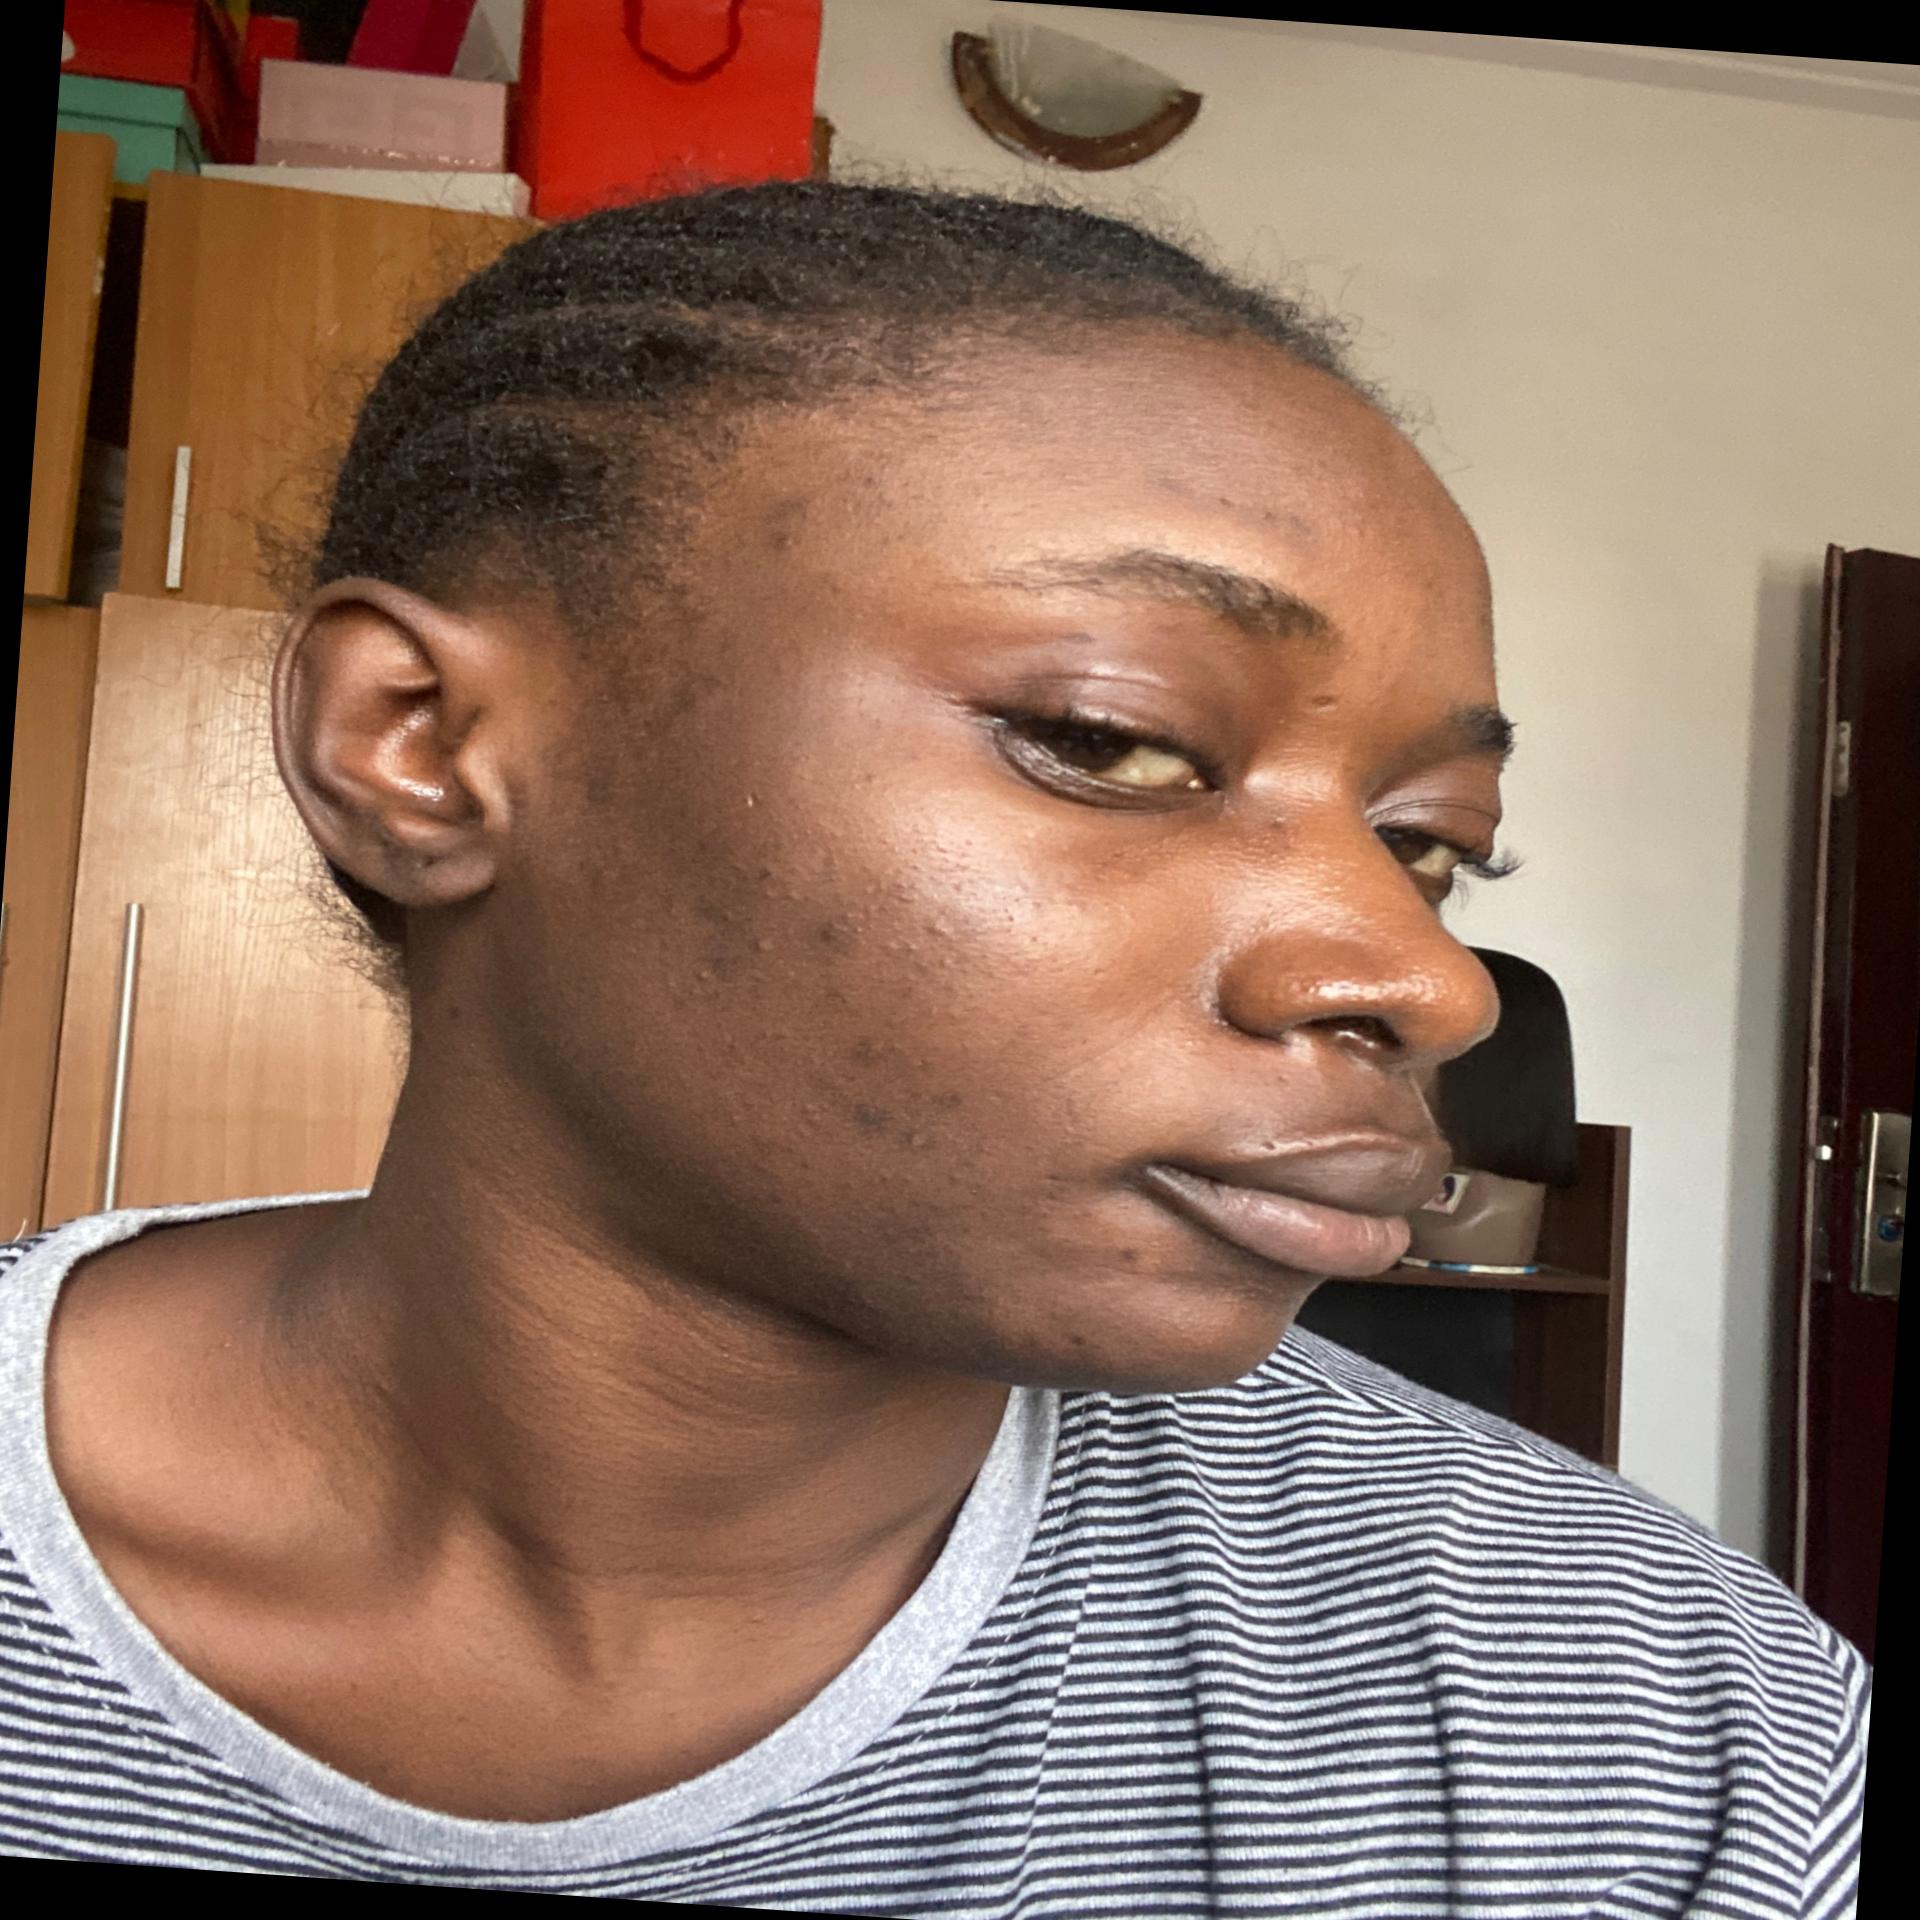Blackhead: (858, 832, 976, 905), (689, 897, 758, 1011), (812, 893, 886, 956), (842, 1029, 893, 1071), (844, 1095, 897, 1136), (1139, 469, 1199, 503), (902, 1120, 944, 1159), (888, 914, 927, 956), (721, 858, 779, 881), (1257, 506, 1317, 527), (765, 526, 807, 554), (754, 884, 805, 907), (798, 1097, 825, 1136), (856, 765, 888, 796), (747, 932, 781, 962), (920, 918, 964, 939), (937, 1085, 969, 1111), (934, 953, 967, 978), (1269, 809, 1296, 833), (1213, 489, 1241, 512), (855, 469, 879, 494)
Wrinkles: (1011, 979, 1185, 1109)
